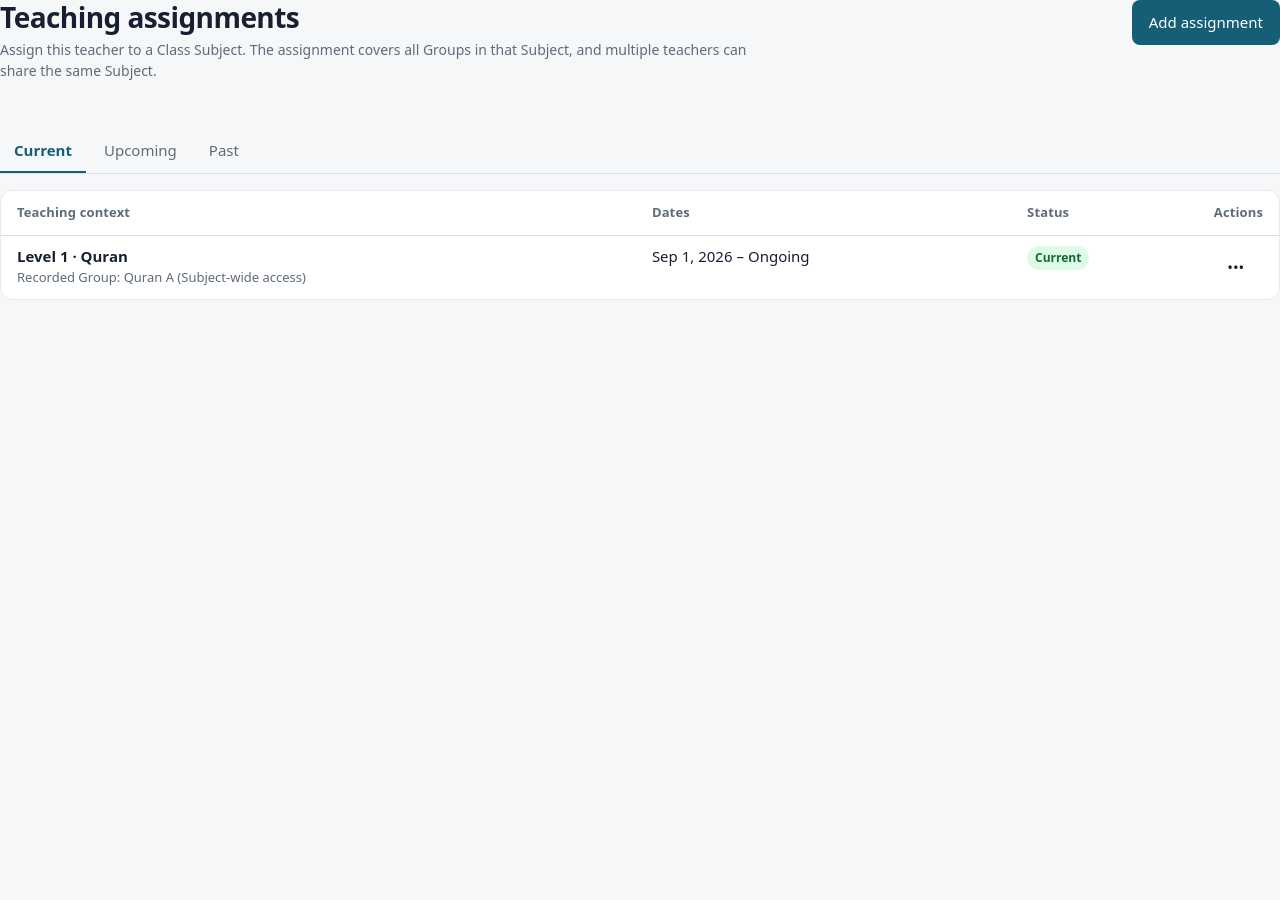
Test: teaching assignment workspace reference CRUD flow › opens Add assignment in a focused dialog
The image size is (1280, 900).
Click the button "Add assignment": (1206, 23) [1132,0,1279,45]
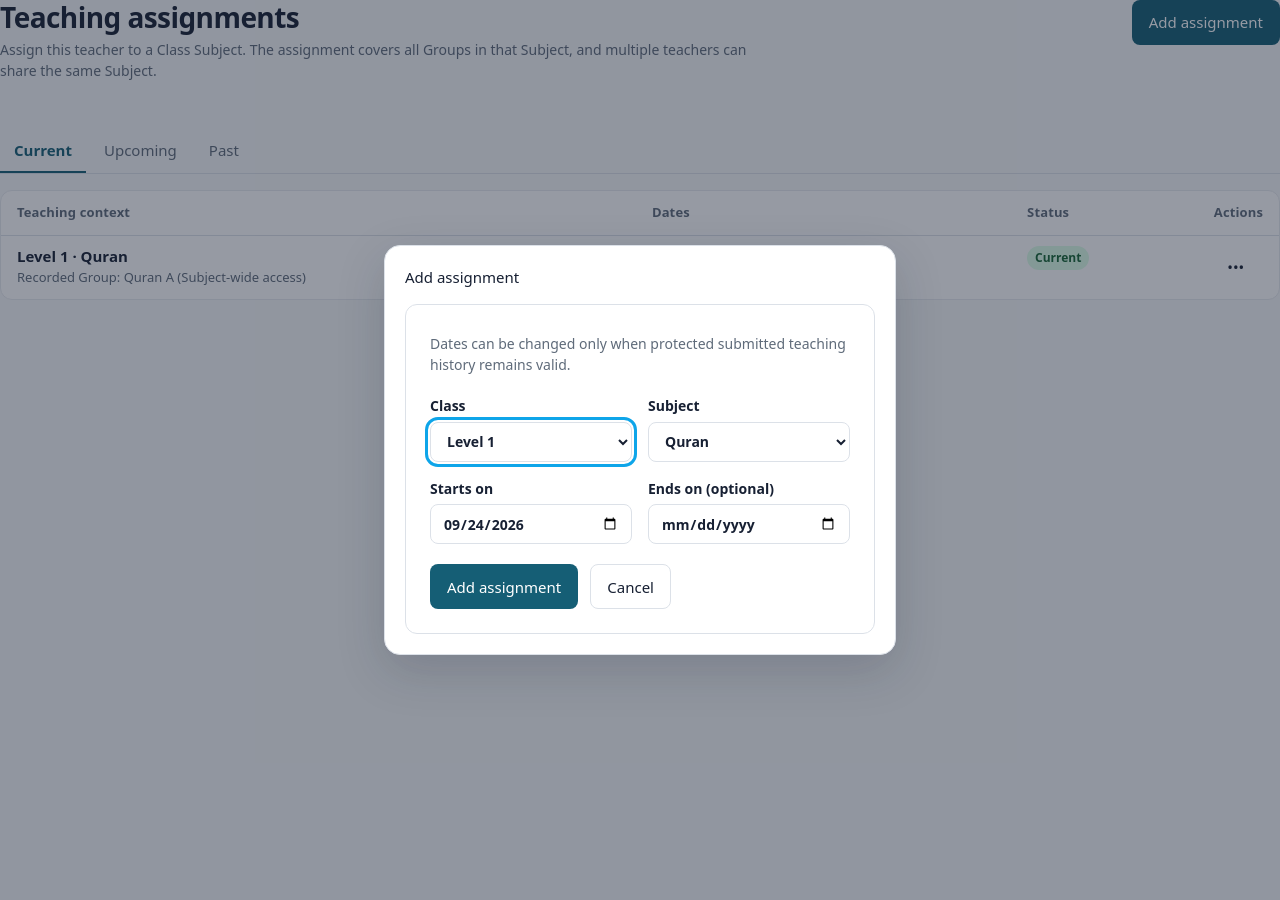
Result: the dialog "Add assignment" is shown at [384,244,896,656]
Result: the dropdown labelled "Class" is shown at [430,422,632,462]
Result: the dropdown labelled "Subject" is shown at [648,422,850,462]
